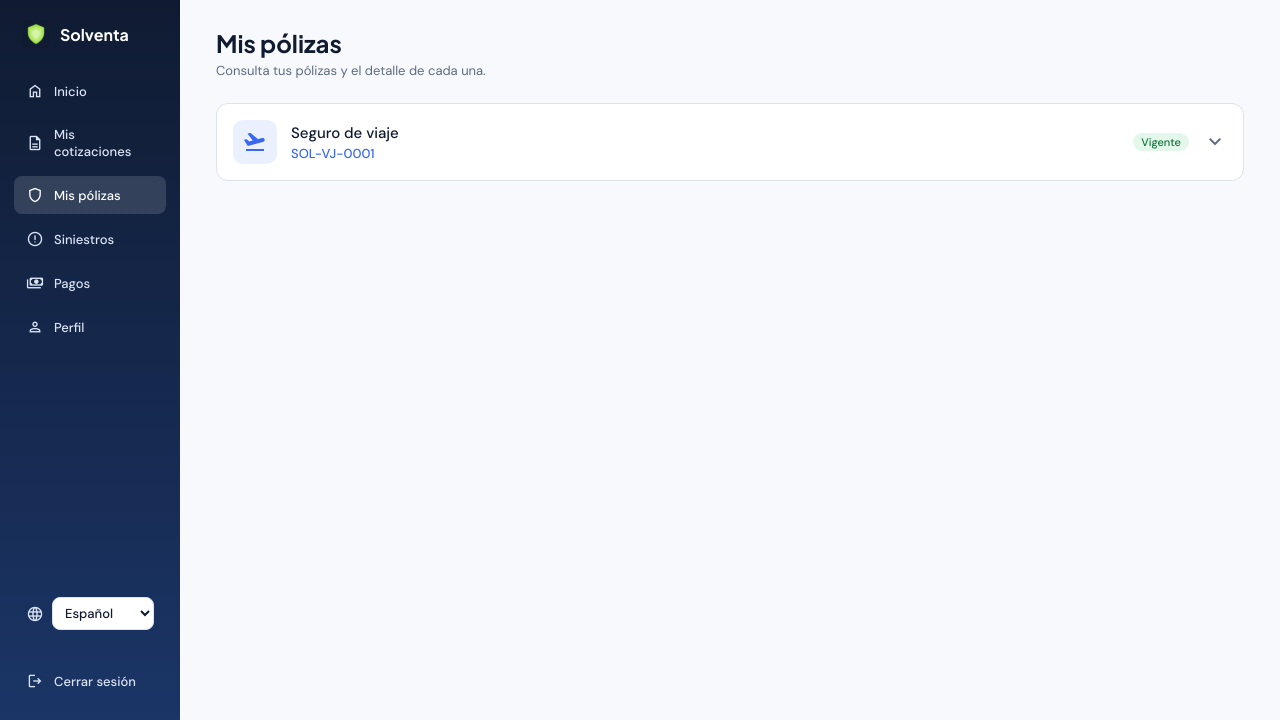
Test case: despliega el detalle y carga el certificado al hacer clic
Click the button "Seguro de viaje SOL-VJ-0001 Vigente" at [255, 142], box [217,104,1243,180]
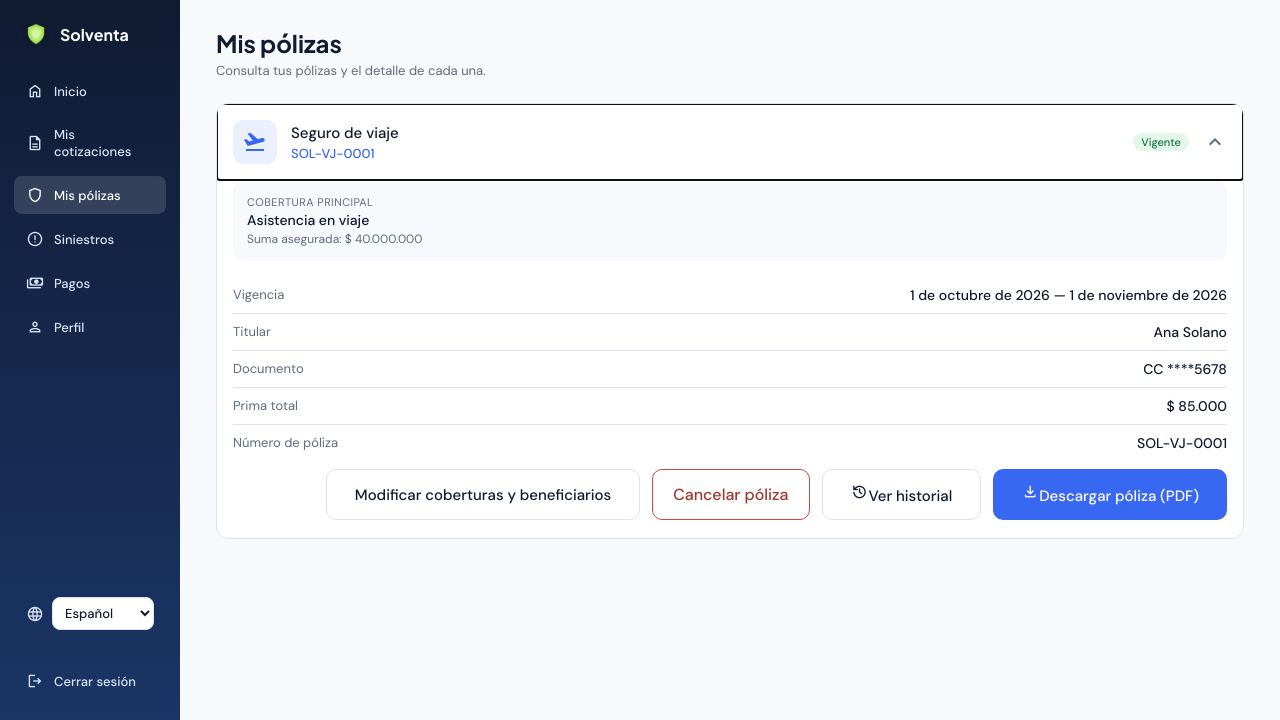
Now the text "Ana Solano" is shown, box [1154,323,1227,341]
Now the text "CC ****5678" is shown, box [1143,360,1227,378]
